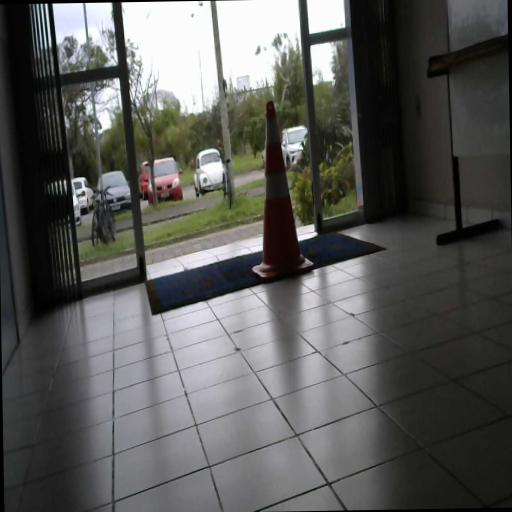cone: (251, 100, 315, 282)
